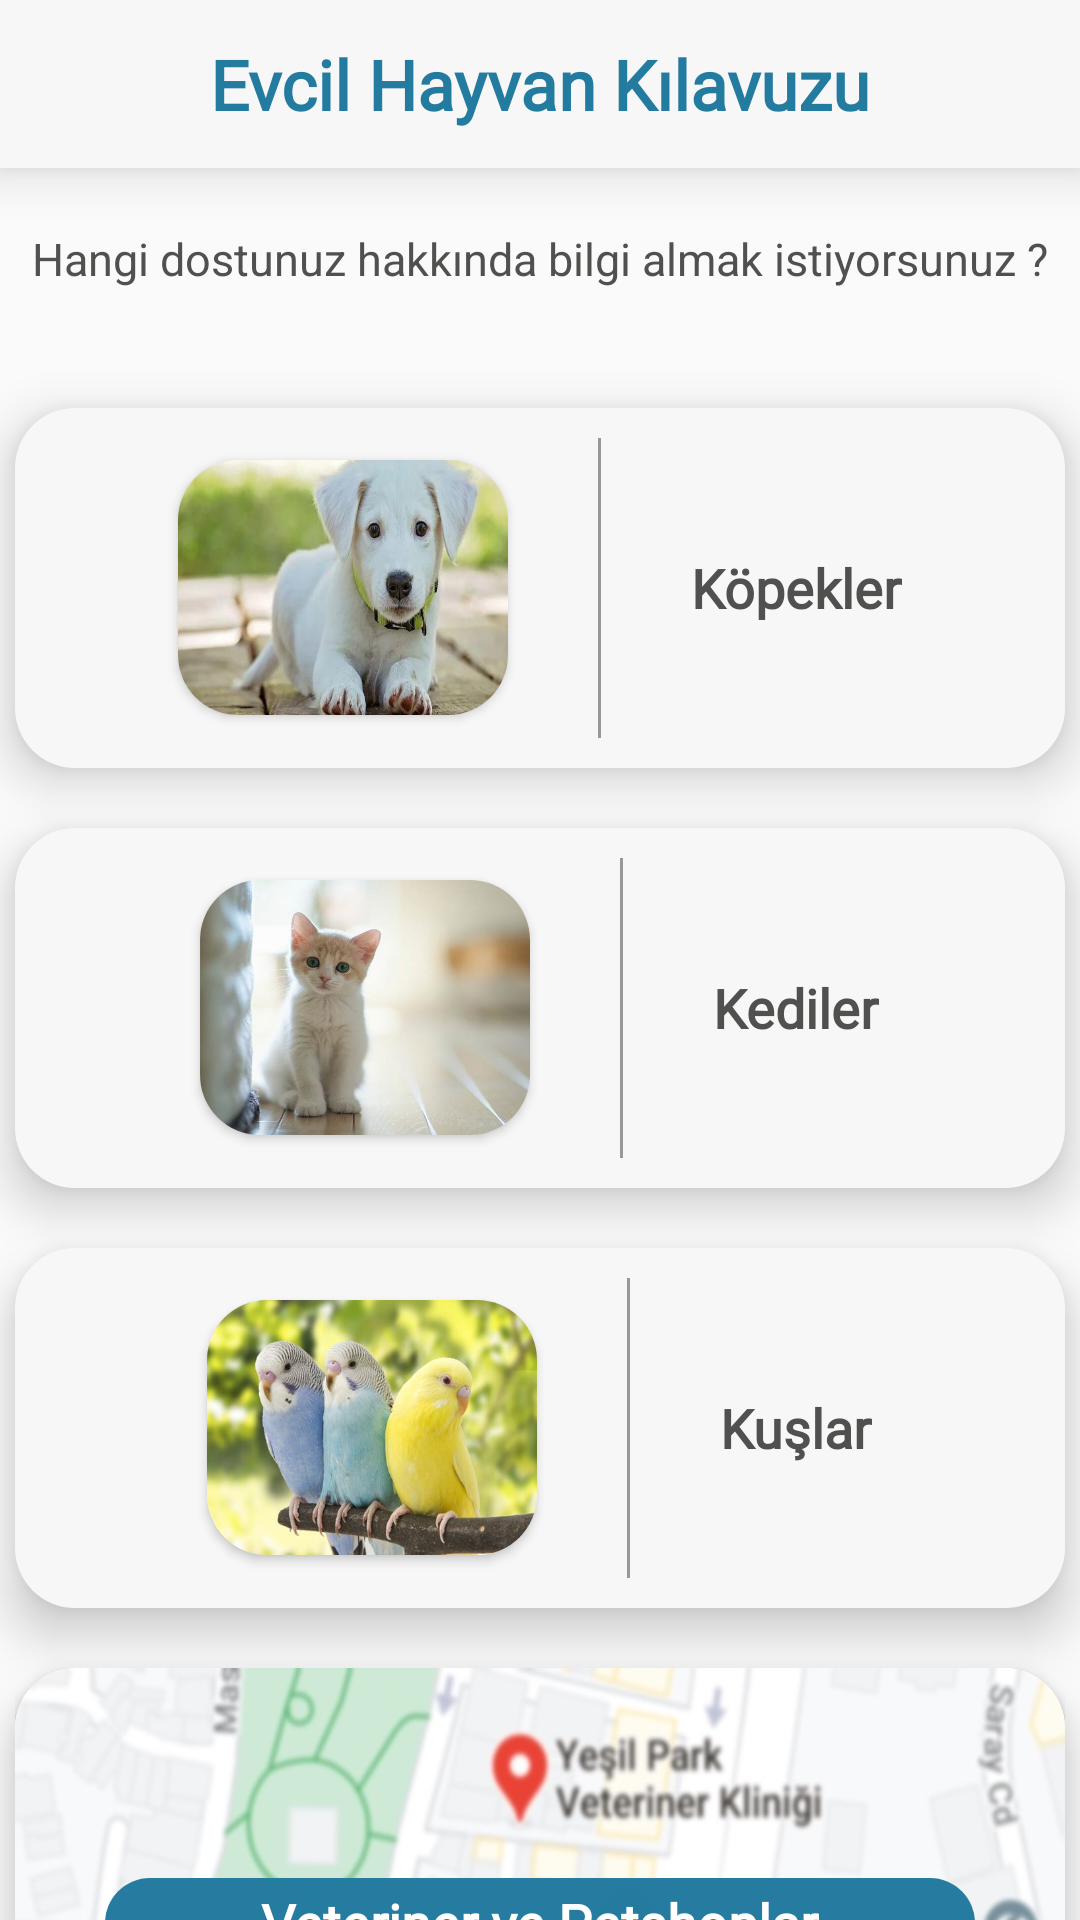

Screen size 1080w x 1920h. Icon name, then its center in pixels as point (x, y):
bird: point (372, 1427)
cat: point (365, 1007)
dog: point (343, 587)
